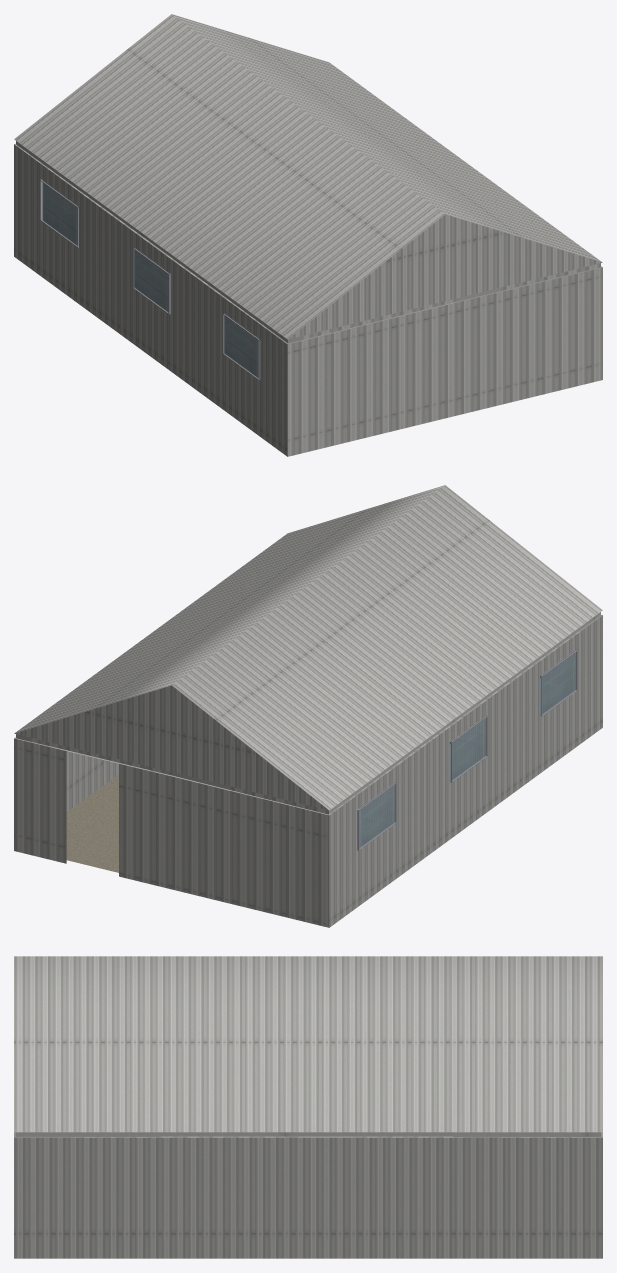
File: kennel.fbx
The picture shows the model from 3 angles, top to bottom: view 1: azimuth 30°, elevation 25°; view 2: azimuth 150°, elevation 25°; view 3: azimuth 270°, elevation 25°; orthographic projection. The views are drawn at different scales.
Visible parts, largest first — view 1: home, window_plane, window_plane002, window_plane001, window; view 2: home, floor, window_plane001, window_plane002, window_plane, window; view 3: home.
Part boxes in pixels (box(x1,y1,x2,y2)): home: box(14, 14, 602, 456); window_plane: box(223, 312, 260, 380); window_plane002: box(42, 180, 79, 248); window_plane001: box(133, 246, 169, 314); window: box(40, 179, 260, 380); home: box(14, 485, 602, 927); floor: box(66, 774, 118, 872); window_plane001: box(449, 715, 486, 783); window_plane002: box(359, 781, 396, 848); window_plane: box(540, 649, 577, 717); window: box(357, 650, 577, 850); home: box(14, 956, 602, 1258).
Bounding box in the file's own units: 38.49 × 23.68 × 57.53.
